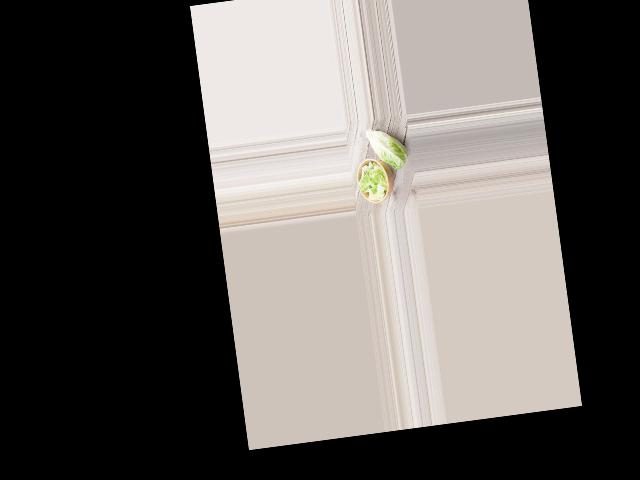lettuce: (365, 125, 409, 172)
